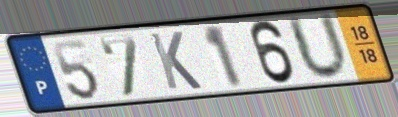1: (202, 23, 246, 91)
5: (48, 36, 103, 102)
6: (247, 18, 296, 86)
7: (96, 32, 140, 99)
K: (146, 30, 206, 92)
U: (283, 10, 352, 83)
